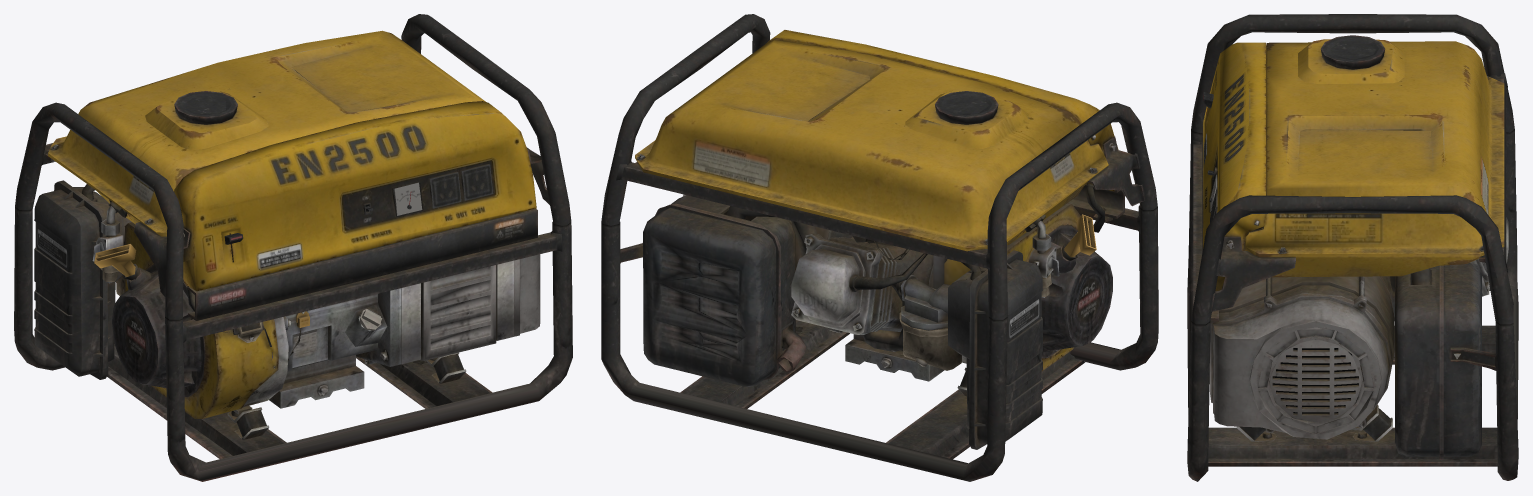
File: portable_generator.glb
The picture shows the model from 3 angles, left to right: view 1: azimuth 30°, elevation 25°; view 2: azimuth 150°, elevation 25°; view 3: azimuth 270°, elevation 25°; orthographic projection.
Parts seen in each view (by area): view 1: portable_generator; view 2: portable_generator; view 3: portable_generator.
Boxes of the visible parts, x1,y1,x2,y2 form: portable_generator: (14, 14, 572, 481); portable_generator: (601, 14, 1158, 481); portable_generator: (1187, 14, 1518, 481).
Bounding box in the file's own units: 0.8166 × 0.5752 × 0.564.
2 materials, 2 textured.
